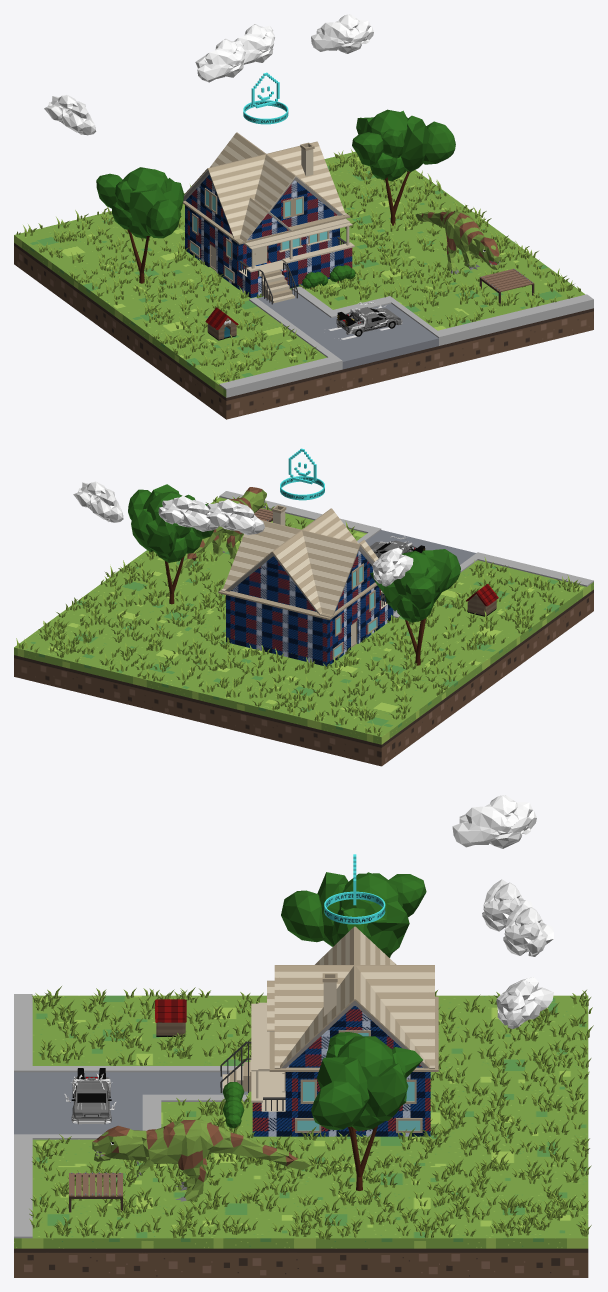
3 views of the same model, one above another, from view 1: azimuth 30°, elevation 25°; view 2: azimuth 150°, elevation 25°; view 3: azimuth 270°, elevation 25° (orthographic). The views are drawn at different scales.
Visible parts, largest first — view 1: Cube.006, Cube.171, Circle.012_Grass_0.192, Cube.007, tree, tree.001, ANIMAL_TREX, VEHICLES_DELOREAN, TYPE_PREMIUM, Cube.009, OBJRANDOM_DOGHOUSE; view 2: Cube.006, Cube.171, Circle.012_Grass_0.192, Cube.007, tree.001, tree, ANIMAL_TREX, TYPE_PREMIUM, OBJRANDOM_DOGHOUSE, VEHICLES_DELOREAN; view 3: Cube.006, Circle.012_Grass_0.192, Cube.171, tree, Cube.007, tree.001, ANIMAL_TREX, VEHICLES_DELOREAN, Cube.009, TYPE_PREMIUM, OBJRANDOM_DOGHOUSE.
Boxes of the visible parts, x1,y1,x2,y2 form: Cube.006: (14,151,593,419); Cube.171: (183,132,354,304); Circle.012_Grass_0.192: (16,149,580,381); Cube.007: (44,14,373,135); tree: (352,109,455,225); tree.001: (96,167,184,283); ANIMAL_TREX: (415,210,501,274); VEHICLES_DELOREAN: (324,302,402,339); TYPE_PREMIUM: (243,72,288,124); Cube.009: (479,268,534,303); OBJRANDOM_DOGHOUSE: (205,307,238,340); Cube.006: (14,491,593,766); Cube.171: (218,505,393,666); Circle.012_Grass_0.192: (16,496,580,736); Cube.007: (73,481,413,586); tree.001: (370,549,460,665); tree: (128,484,214,604); ANIMAL_TREX: (182,487,266,568); TYPE_PREMIUM: (280,448,324,500); OBJRANDOM_DOGHOUSE: (466,584,498,616); VEHICLES_DELOREAN: (370,536,425,558); Cube.006: (14,994,588,1277); Circle.012_Grass_0.192: (29,986,593,1239); Cube.171: (220,926,438,1136); tree: (311,1032,422,1190); Cube.007: (452,795,553,1029); tree.001: (281,872,426,957); ANIMAL_TREX: (92,1119,311,1201); VEHICLES_DELOREAN: (64,1068,116,1124); Cube.009: (69,1172,122,1212); TYPE_PREMIUM: (324,854,385,924); OBJRANDOM_DOGHOUSE: (155,999,186,1036).
Size of the model in its own units: 4071 by 2301 by 4040.
47 materials, 5 textured.
